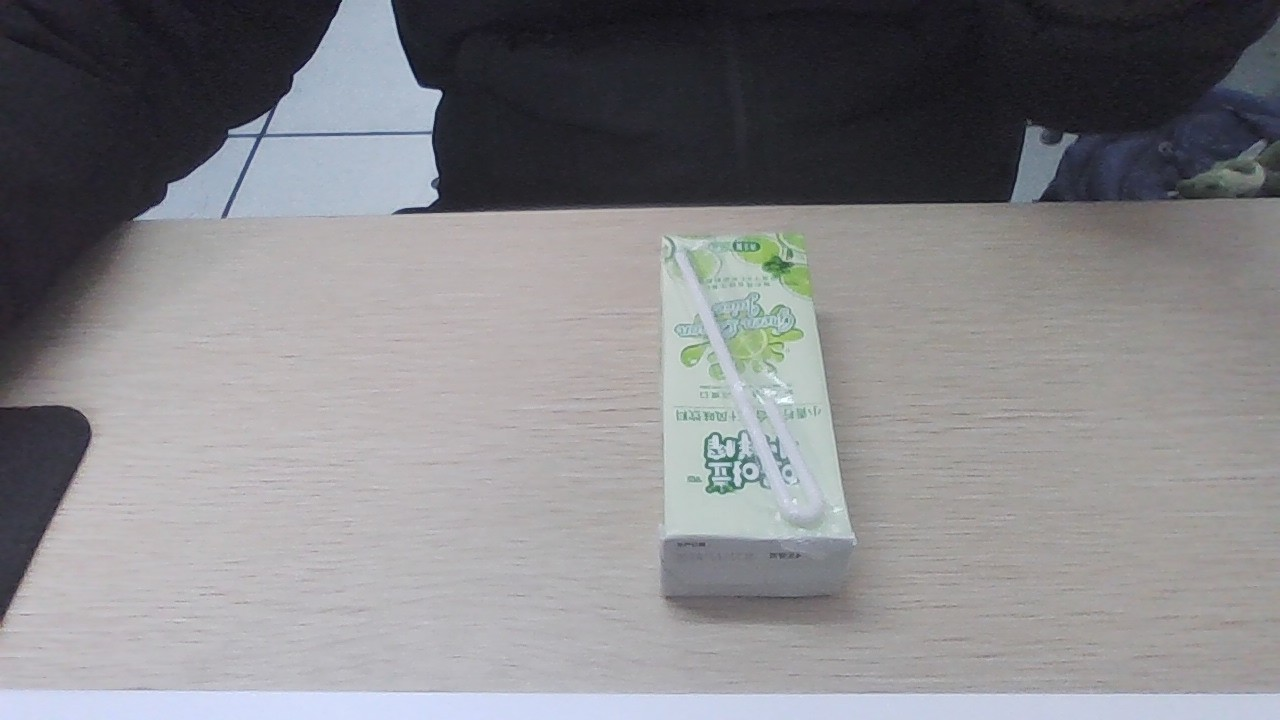CY-drink: (655, 226, 855, 600)
